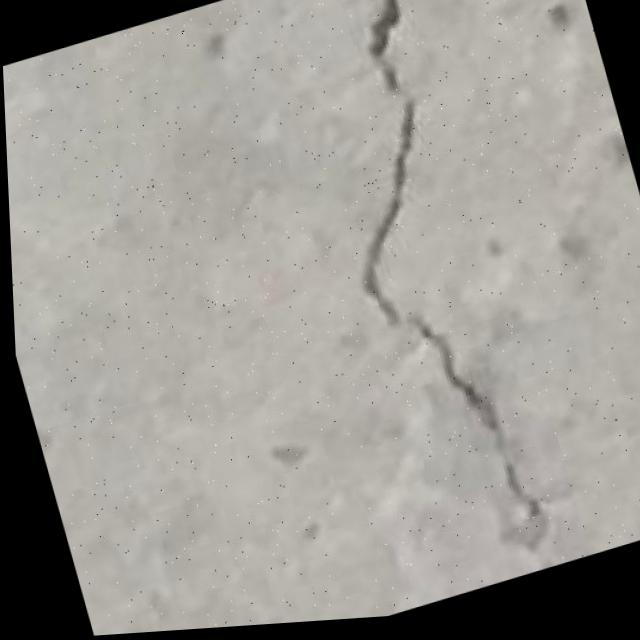Crack: (271, 0, 582, 587)
